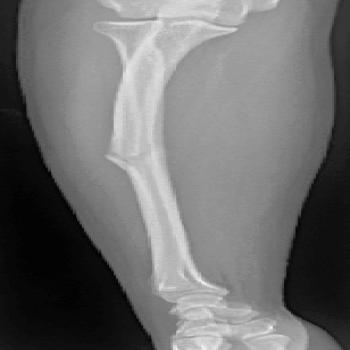Fracture: (84, 144, 168, 174)
